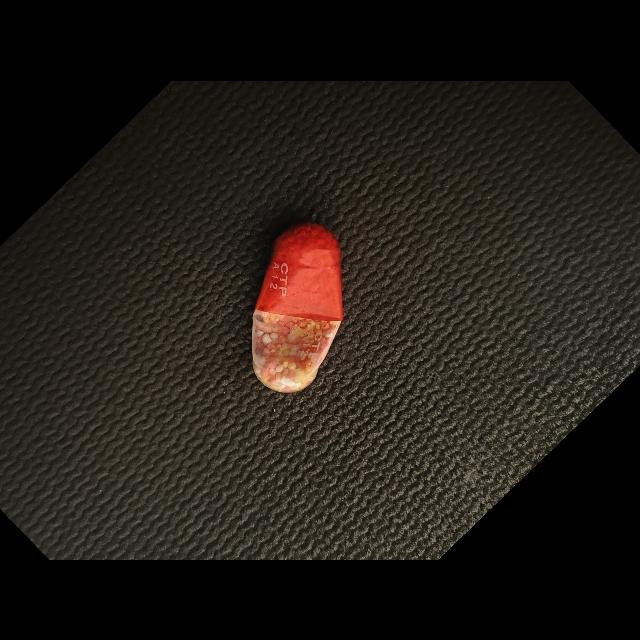Defective Capsule: (252, 222, 343, 392)
